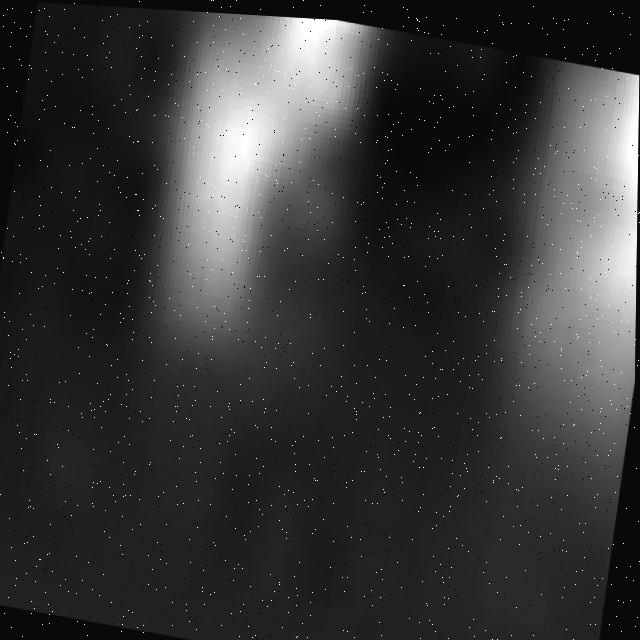person: (107, 6, 425, 401), (487, 50, 640, 531)
